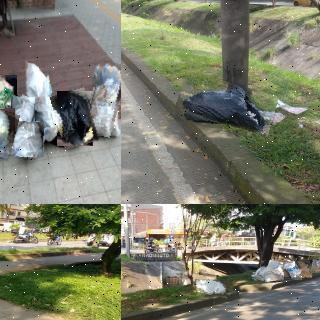Garbage: (176, 77, 277, 131), (86, 60, 121, 137), (54, 89, 96, 148), (22, 62, 55, 111), (14, 121, 46, 158), (0, 105, 17, 159), (193, 277, 231, 298), (11, 97, 35, 129), (0, 74, 18, 116), (284, 262, 302, 280), (297, 260, 313, 278), (264, 269, 281, 282), (309, 258, 320, 273)
